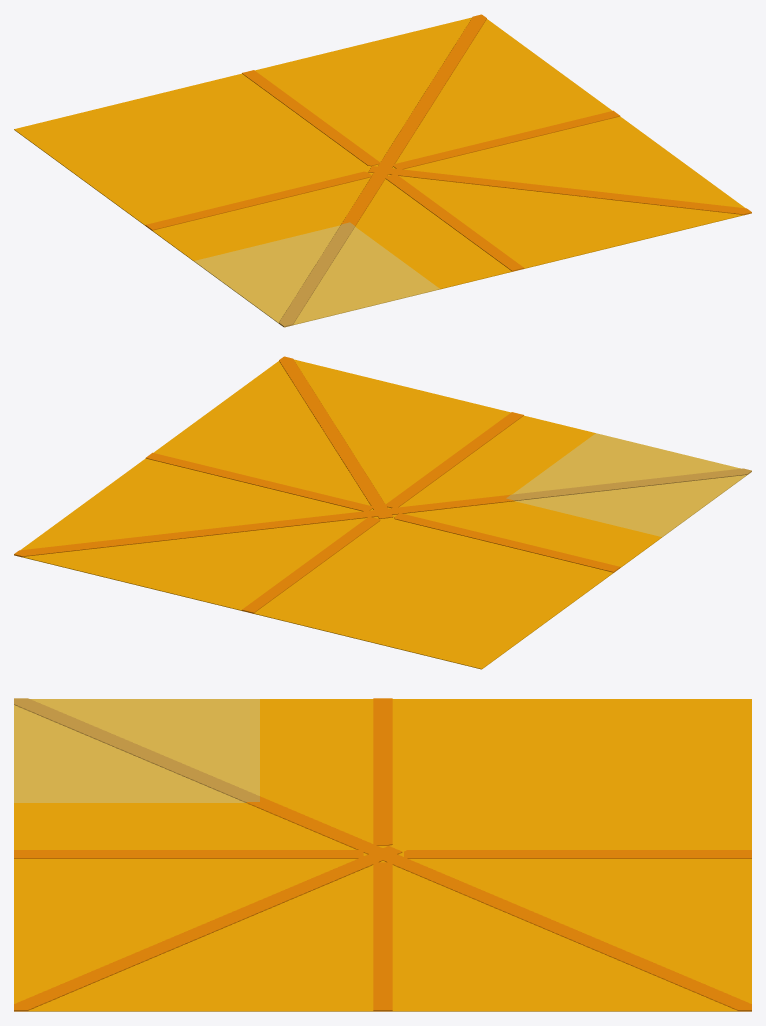
File: map.obj
The picture shows the model from 3 angles, top to bottom: view 1: azimuth 30°, elevation 25°; view 2: azimuth 150°, elevation 25°; view 3: azimuth 270°, elevation 25°; orthographic projection. The views are drawn at different scales.
Parts seen in each view (by area): view 1: shadow-0.004_shadow-0.004_palette.028, shadow-0.004_shadow-0.004_palette.027, shadow-0.004_shadow-0.004_palette.020, shadow-0.004_shadow-0.004_palette.021, shadow-0.004_shadow-0.004_palette.024, shadow-0.004_shadow-0.004_palette.022, shadow-0.004_shadow-0.004_palette.026, shadow-0.004_shadow-0.004_palette.023, shadow-0.004_shadow-0.004_palette.025; view 2: shadow-0.004_shadow-0.004_palette.024, shadow-0.004_shadow-0.004_palette.023, shadow-0.004_shadow-0.004_palette.026, shadow-0.004_shadow-0.004_palette.021, shadow-0.004_shadow-0.004_palette.028, shadow-0.004_shadow-0.004_palette.022, shadow-0.004_shadow-0.004_palette.020, shadow-0.004_shadow-0.004_palette.025, shadow-0.004_shadow-0.004_palette.027; view 3: shadow-0.004_shadow-0.004_palette.025, shadow-0.004_shadow-0.004_palette.020, shadow-0.004_shadow-0.004_palette.026, shadow-0.004_shadow-0.004_palette.028, shadow-0.004_shadow-0.004_palette.024, shadow-0.004_shadow-0.004_palette.027, shadow-0.004_shadow-0.004_palette.022, shadow-0.004_shadow-0.004_palette.021, shadow-0.004_shadow-0.004_palette.023.
Part boxes in pixels (x1,y1,x2,y2): shadow-0.004_shadow-0.004_palette.028: (194, 222, 439, 327); shadow-0.004_shadow-0.004_palette.027: (350, 184, 595, 289); shadow-0.004_shadow-0.004_palette.020: (506, 147, 751, 251); shadow-0.004_shadow-0.004_palette.021: (104, 157, 349, 261); shadow-0.004_shadow-0.004_palette.024: (14, 91, 259, 195); shadow-0.004_shadow-0.004_palette.022: (260, 118, 505, 222); shadow-0.004_shadow-0.004_palette.026: (326, 14, 571, 118); shadow-0.004_shadow-0.004_palette.023: (170, 53, 415, 156); shadow-0.004_shadow-0.004_palette.025: (416, 81, 661, 184); shadow-0.004_shadow-0.004_palette.024: (326, 565, 571, 669); shadow-0.004_shadow-0.004_palette.023: (170, 526, 415, 631); shadow-0.004_shadow-0.004_palette.026: (14, 489, 259, 593); shadow-0.004_shadow-0.004_palette.021: (416, 498, 661, 603); shadow-0.004_shadow-0.004_palette.028: (506, 433, 751, 537); shadow-0.004_shadow-0.004_palette.022: (260, 460, 505, 564); shadow-0.004_shadow-0.004_palette.020: (194, 356, 439, 460); shadow-0.004_shadow-0.004_palette.025: (104, 423, 349, 526); shadow-0.004_shadow-0.004_palette.027: (350, 395, 595, 498); shadow-0.004_shadow-0.004_palette.025: (260, 906, 505, 1011); shadow-0.004_shadow-0.004_palette.020: (14, 906, 259, 1011); shadow-0.004_shadow-0.004_palette.026: (506, 906, 751, 1011); shadow-0.004_shadow-0.004_palette.028: (14, 698, 259, 802); shadow-0.004_shadow-0.004_palette.024: (506, 699, 751, 802); shadow-0.004_shadow-0.004_palette.027: (14, 802, 259, 906); shadow-0.004_shadow-0.004_palette.022: (260, 802, 505, 906); shadow-0.004_shadow-0.004_palette.021: (260, 698, 505, 802); shadow-0.004_shadow-0.004_palette.023: (506, 803, 751, 906).
Size of the model in its own units: 76.8 by 0.2 by 76.8.
